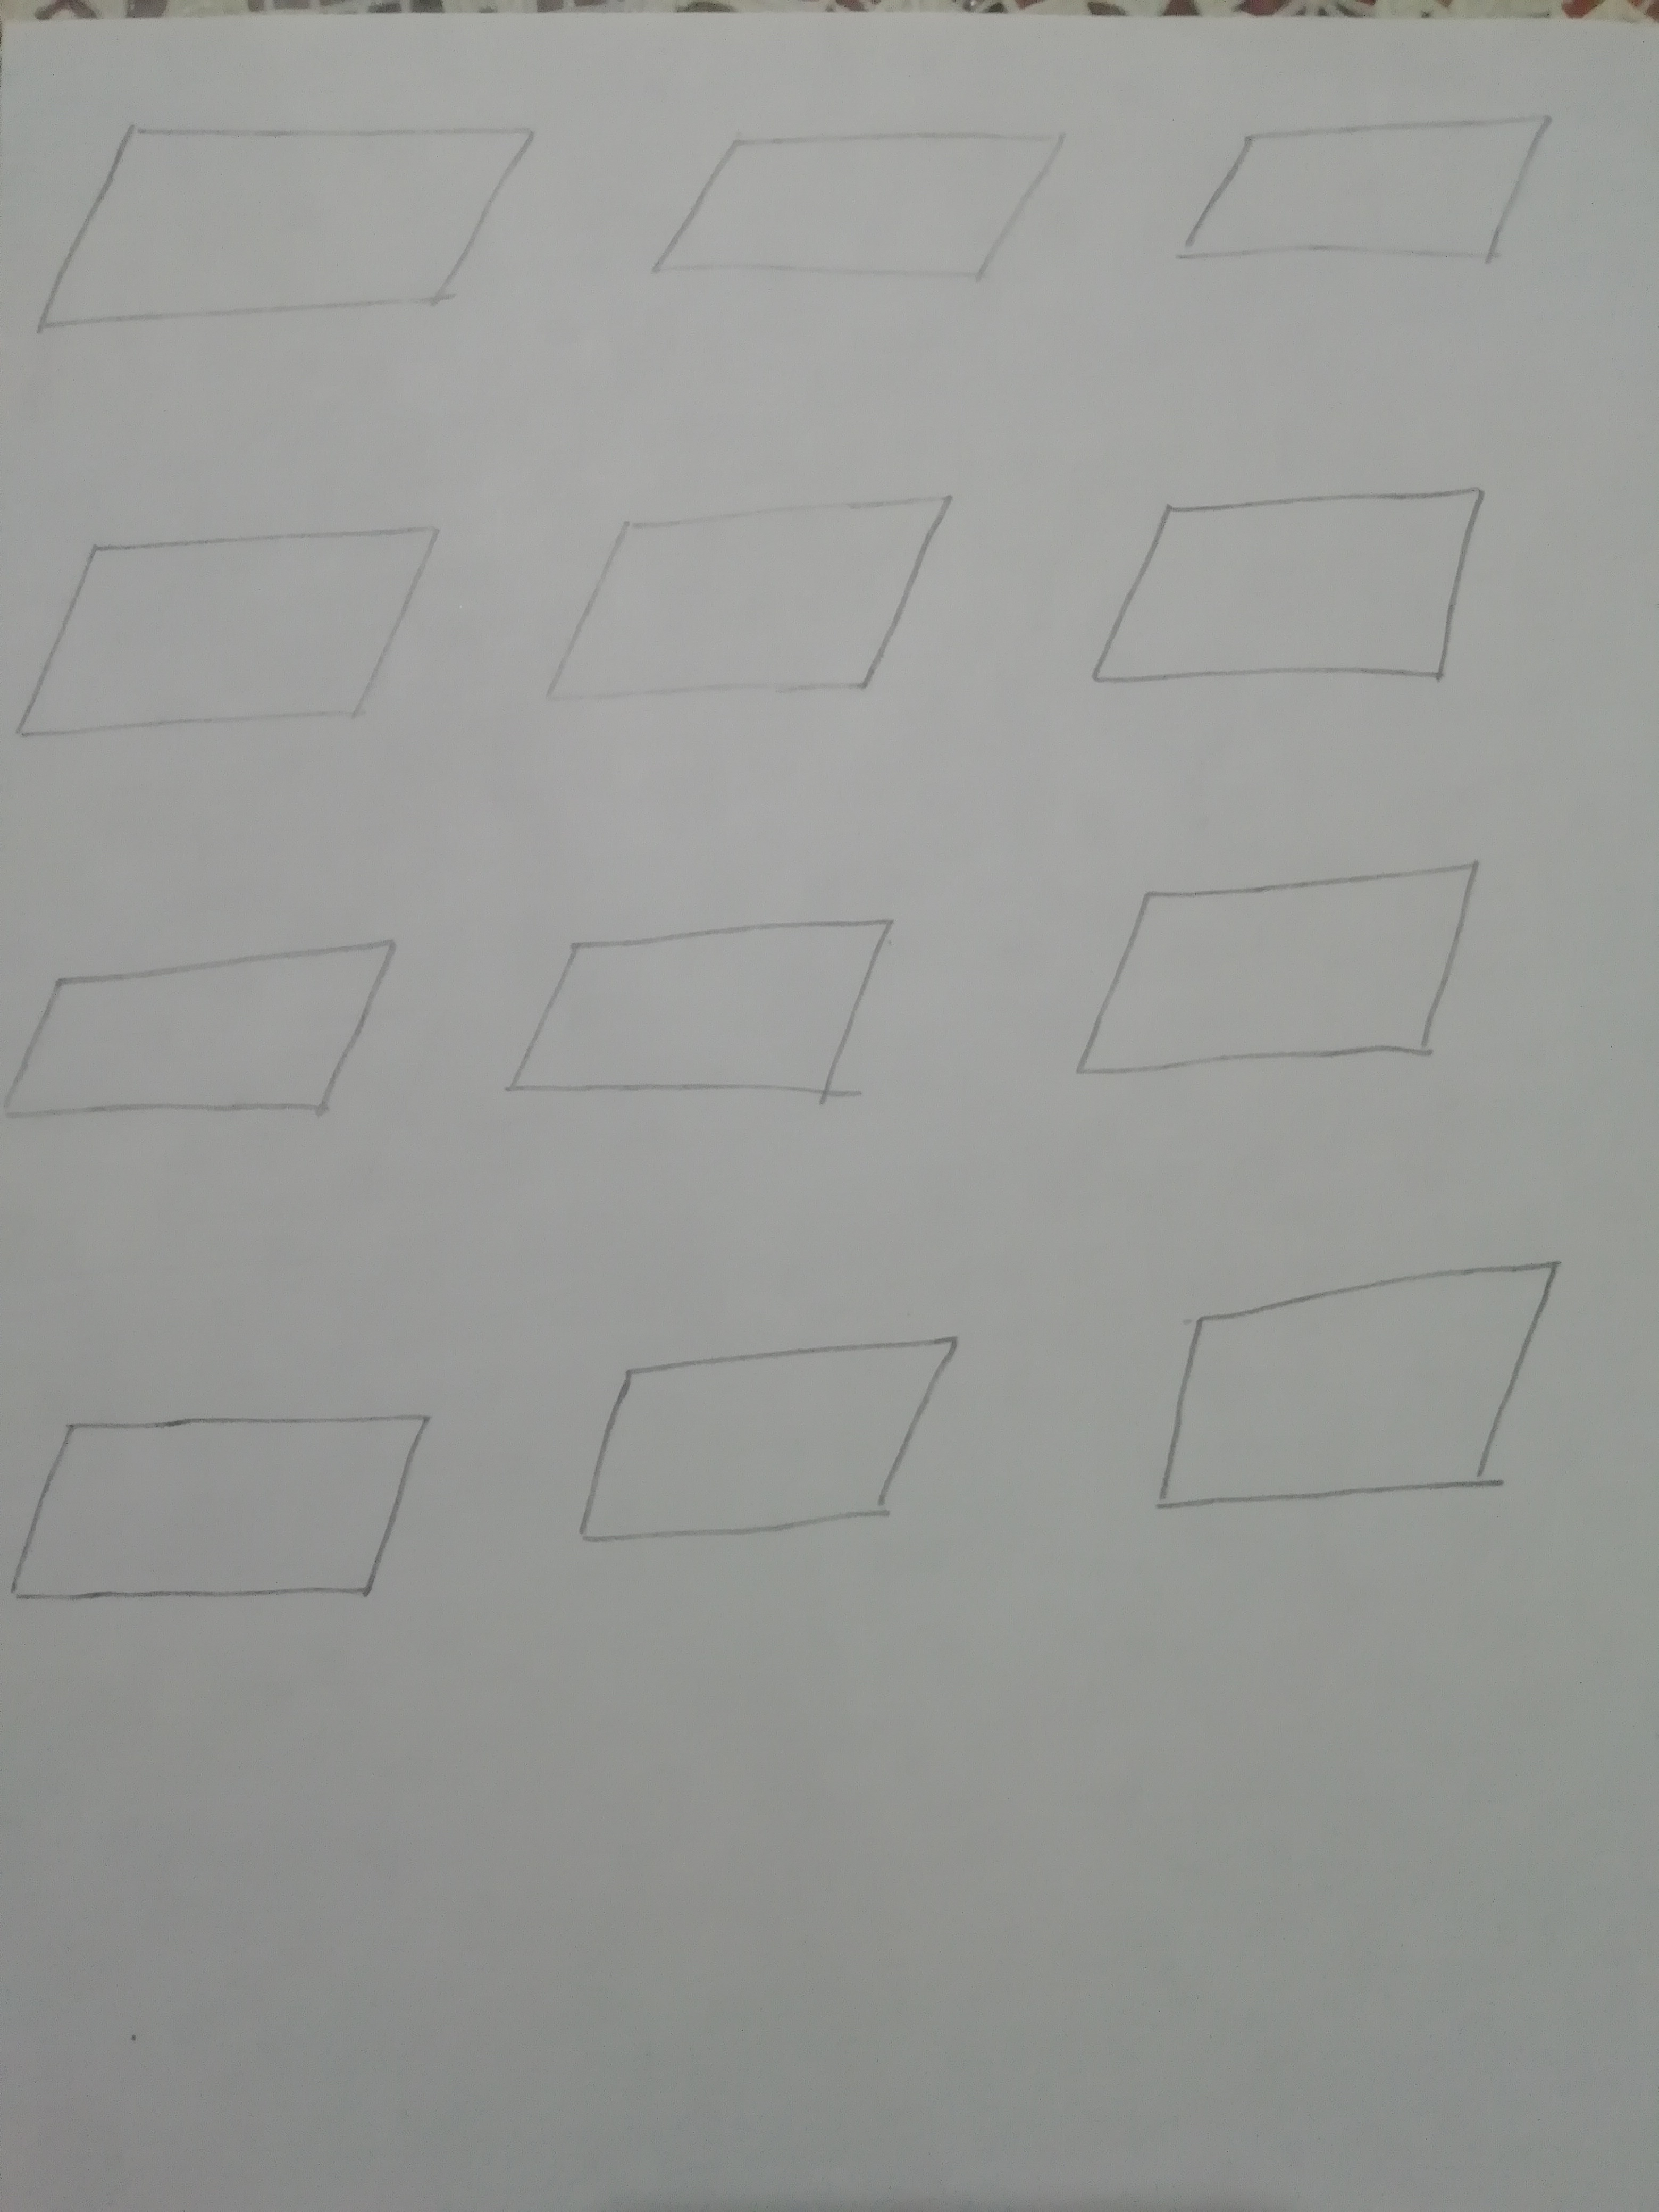scan: (19, 78, 565, 373), (1030, 840, 1579, 1120), (1143, 1233, 1596, 1552), (533, 1308, 1030, 1571), (5, 500, 469, 773), (519, 465, 1002, 719), (1061, 458, 1540, 712), (495, 894, 924, 1160), (0, 1379, 441, 1630), (633, 103, 1086, 347), (0, 897, 427, 1144), (1154, 89, 1586, 312)
